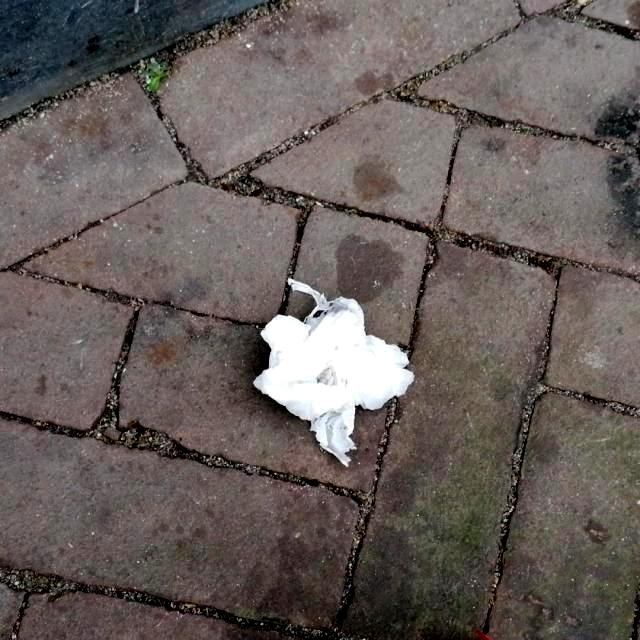Paper: (250, 274, 416, 470)
